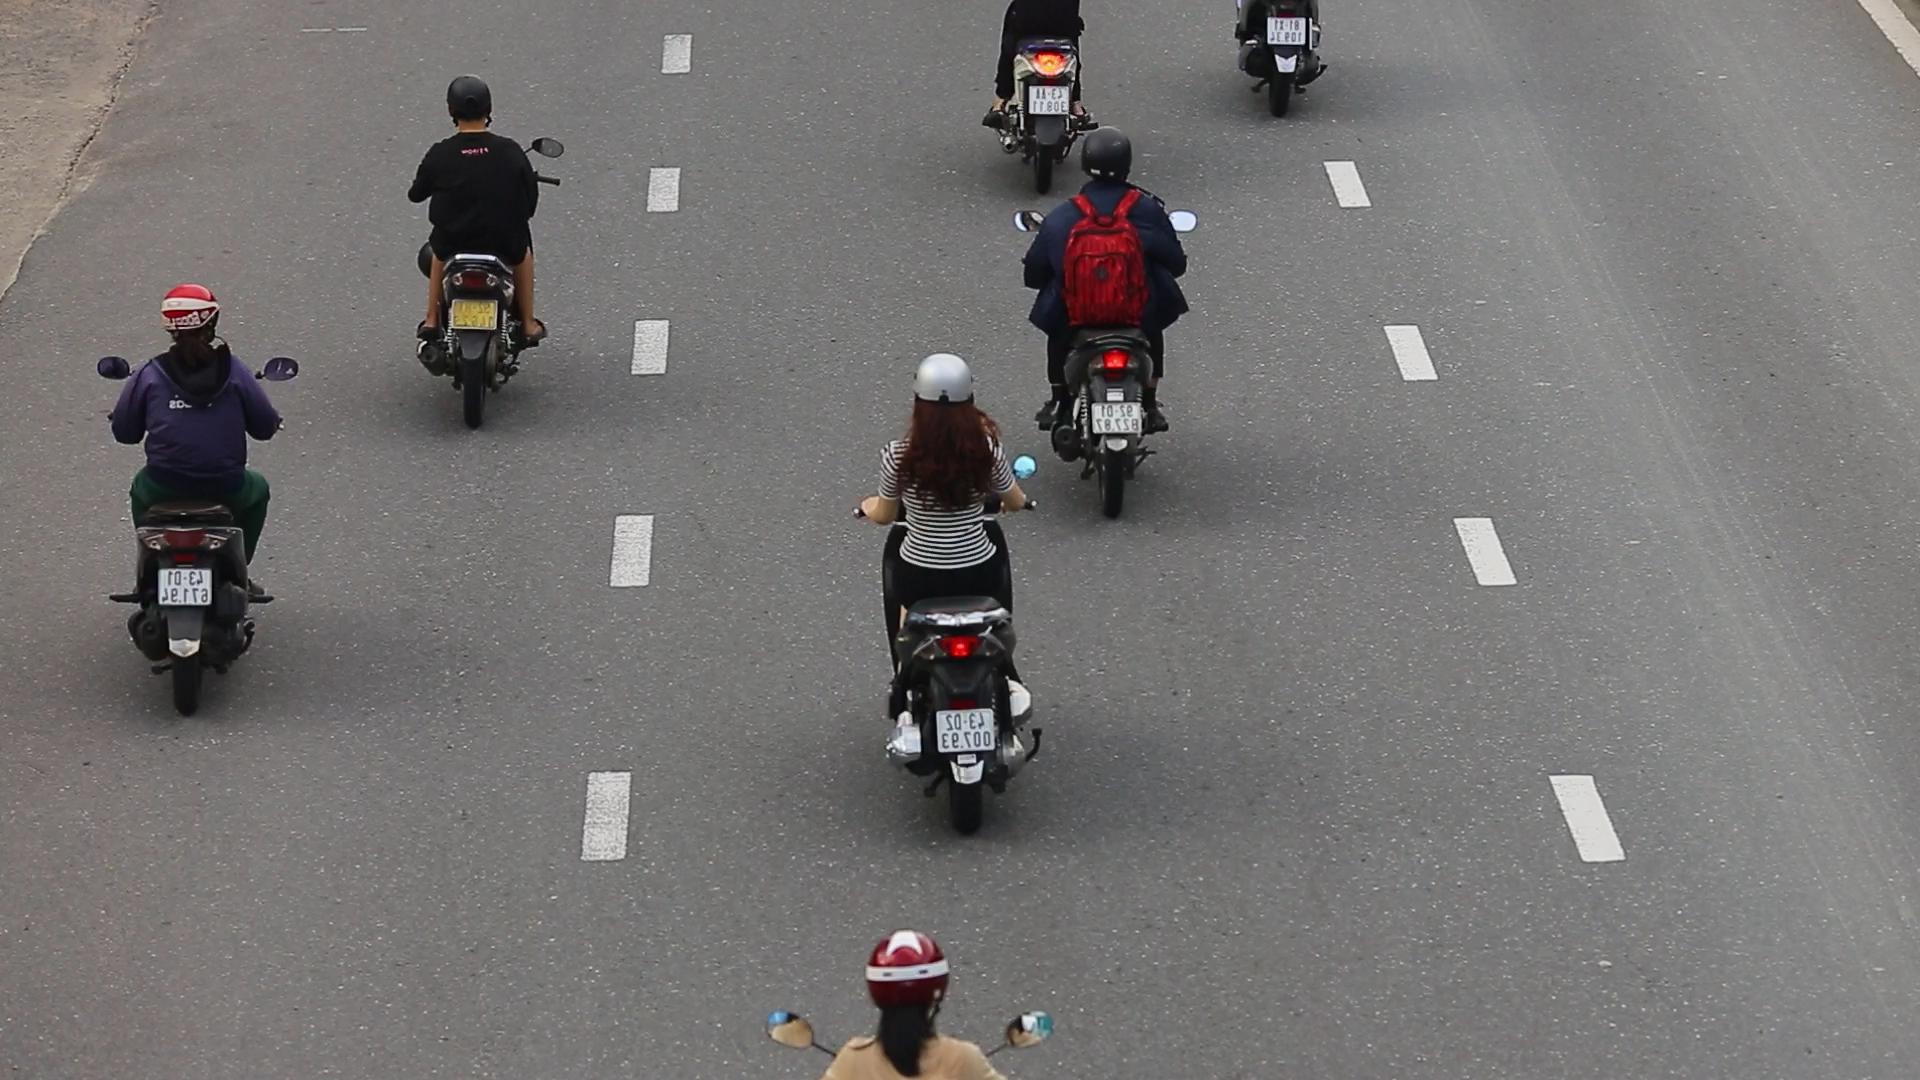motobike: (78, 280, 302, 724), (851, 345, 1044, 831), (389, 65, 574, 433), (1027, 120, 1199, 509)
